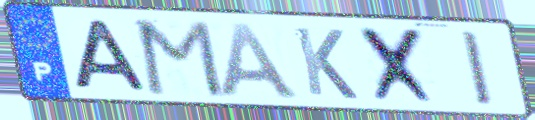A: (217, 20, 305, 102), (71, 17, 152, 95)
I: (457, 28, 498, 109)
K: (290, 24, 361, 102)
M: (134, 18, 228, 100)
X: (354, 25, 444, 107)
